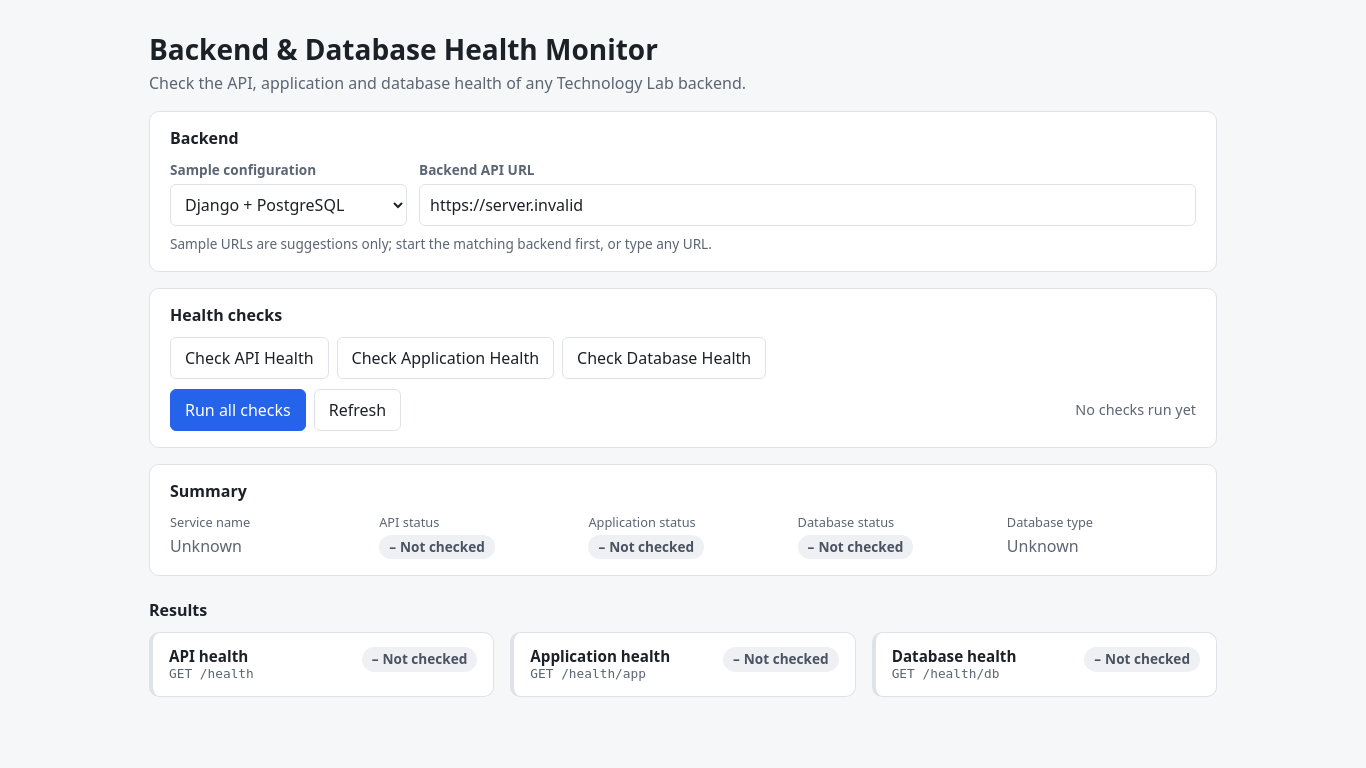
Test: App › shows unhealthy database results with HTTP 503
This screenshot has width=1366, height=768.
Click the button "Run all checks": {"x": 238, "y": 410} [170,389,306,431]
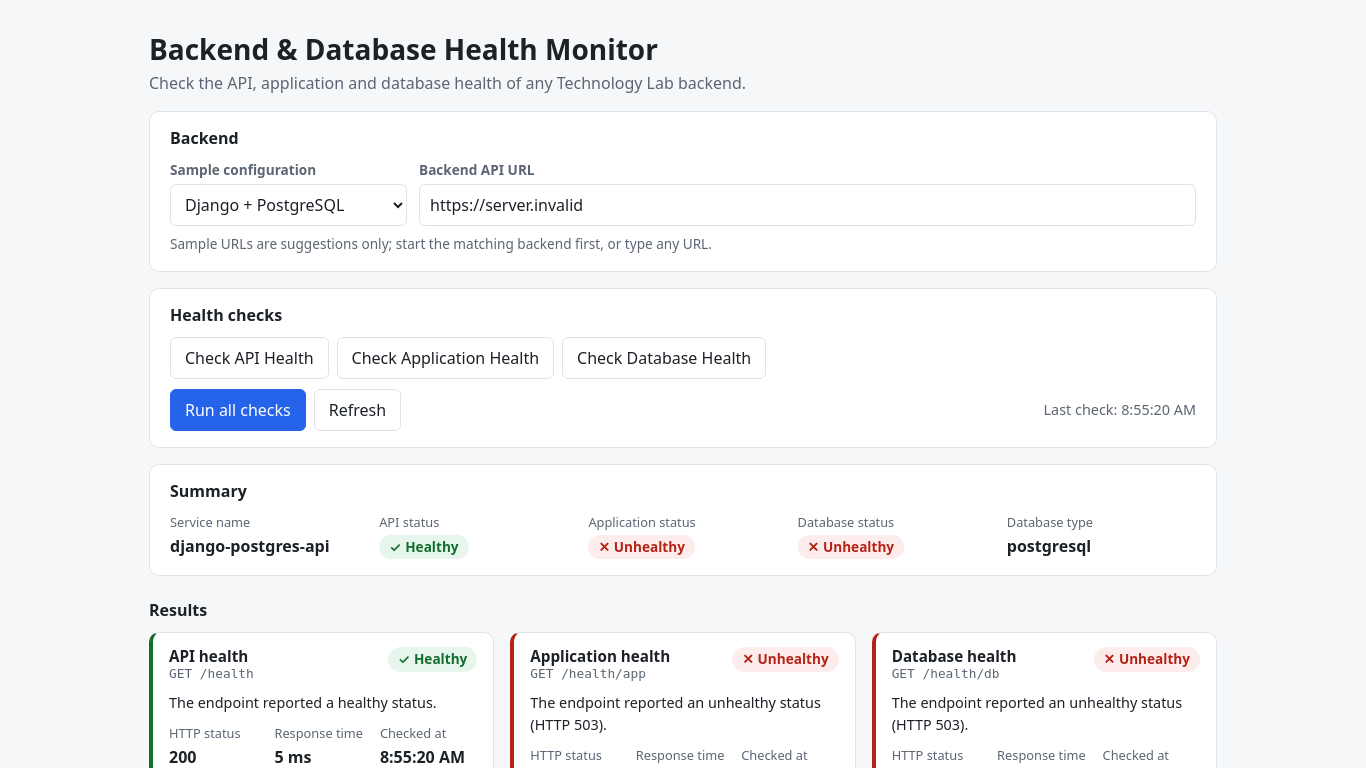
Expected: the text "Healthy" below "Results" is shown, [414,649,467,668]
Expected: the 3rd text "Unhealthy" is shown, [758,649,829,668]
Expected: the 4th text "Unhealthy" is shown, [1119,649,1190,668]
